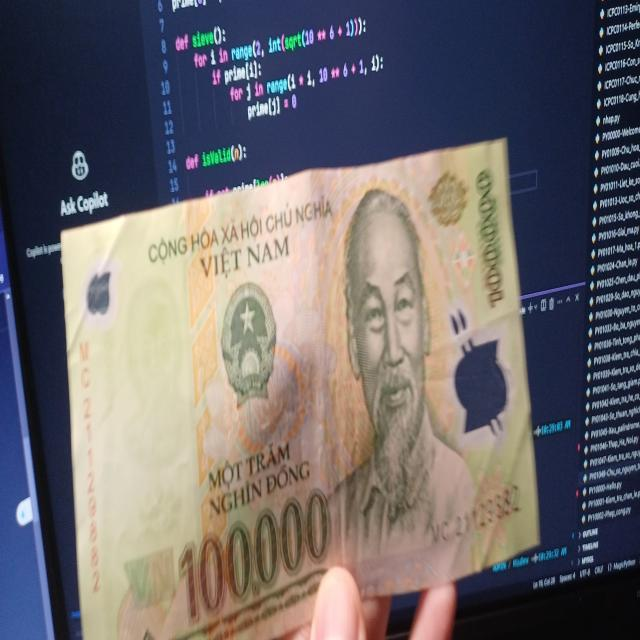100 000 VND: (54, 130, 545, 640)
